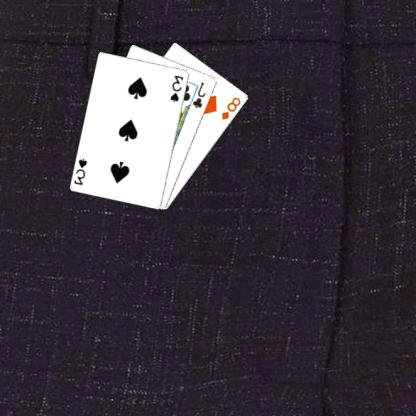3S: (170, 72, 186, 103), (74, 156, 90, 186)
8D: (221, 95, 245, 122)
JC: (192, 80, 209, 110)
